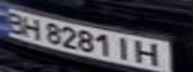1: (93, 30, 112, 57)
2: (57, 25, 78, 51)
8: (39, 20, 63, 46), (75, 28, 93, 54)
B: (0, 9, 30, 35)
H: (130, 38, 169, 68), (18, 15, 45, 39)
I: (112, 34, 136, 62)
